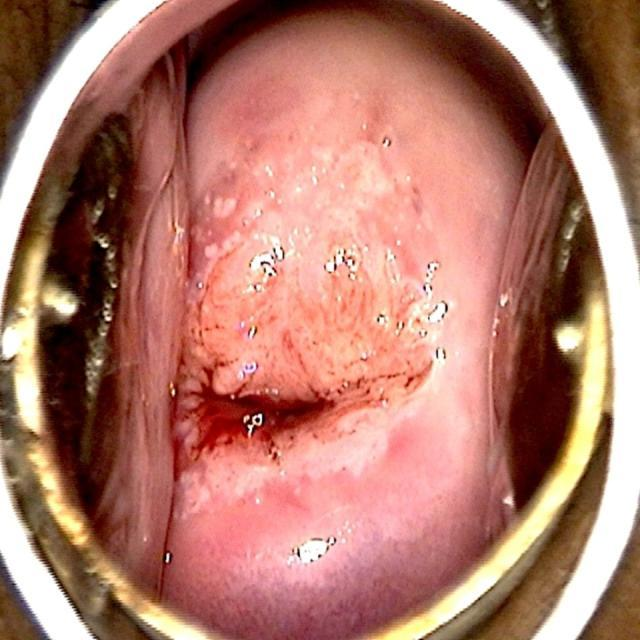cervical_lesion: (144, 76, 463, 624)
